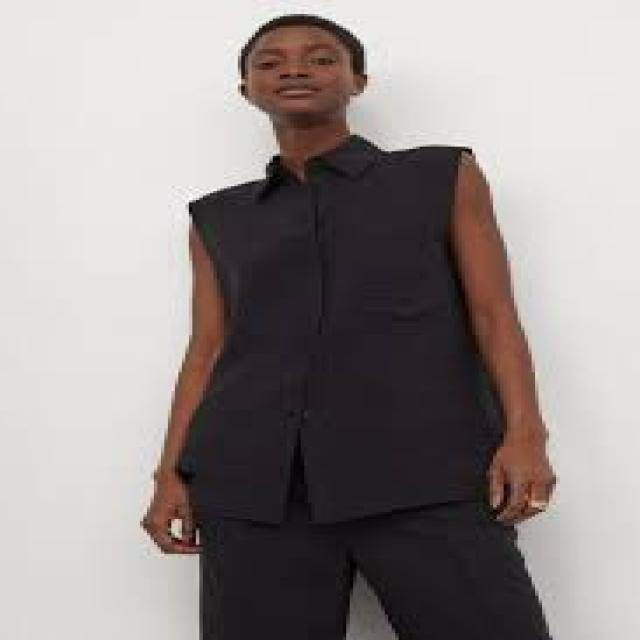no_vest: (175, 133, 505, 522)
